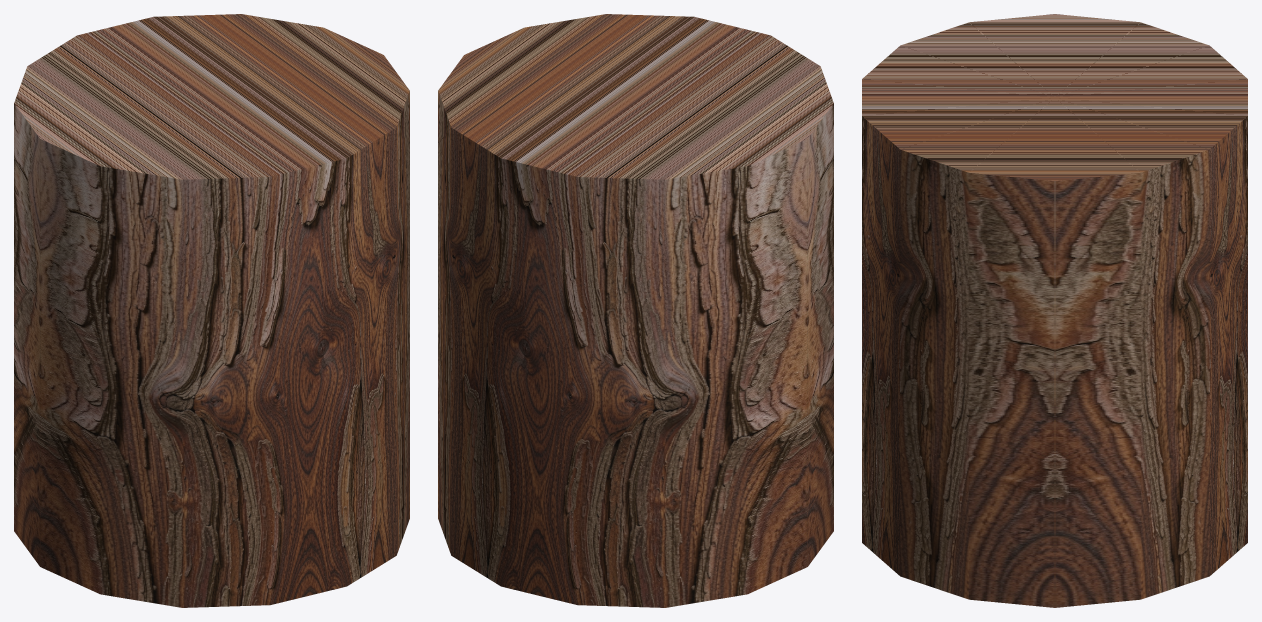
Rendered from mahoganylogv.glb.
The picture shows the model from 3 angles, left to right: view 1: azimuth 30°, elevation 25°; view 2: azimuth 150°, elevation 25°; view 3: azimuth 270°, elevation 25°; orthographic projection.
Parts seen in each view (by area): view 1: Birch_Log_H_Birch; view 2: Birch_Log_H_Birch; view 3: Birch_Log_H_Birch.
Boxes of the visible parts, left/top/right/bottom form: Birch_Log_H_Birch: left=14, top=14, right=409, bottom=607; Birch_Log_H_Birch: left=438, top=14, right=833, bottom=607; Birch_Log_H_Birch: left=862, top=14, right=1247, bottom=607.
Bounding box in the file's own units: 0.84 × 1 × 0.8189.
Materials: 1 (1 with a texture image).
